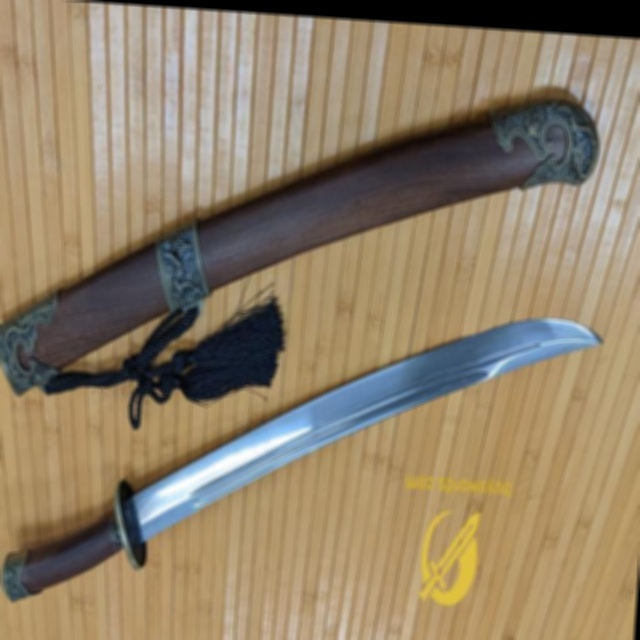Sharp-Object: (0, 284, 623, 639)
